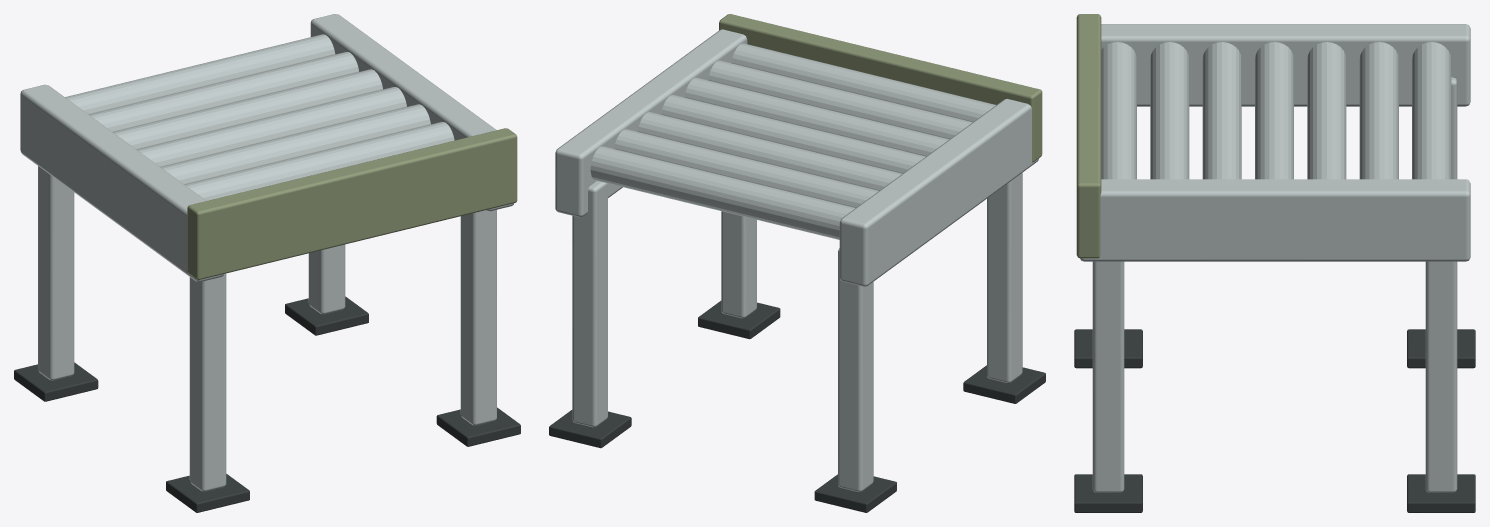
The model's file is mountain-border-checkpoint-mountain-border-checkpoint--37b02af6__30309.glb.
The picture shows the model from 3 angles, left to right: view 1: azimuth 30°, elevation 25°; view 2: azimuth 150°, elevation 25°; view 3: azimuth 270°, elevation 25°; orthographic projection. The views are drawn at different scales.
Parts seen in each view (by area): view 1: mountain-border-checkpoint-baggage-roller-end; view 2: mountain-border-checkpoint-baggage-roller-end; view 3: mountain-border-checkpoint-baggage-roller-end.
Boxes of the visible parts, <box> form: mountain-border-checkpoint-baggage-roller-end: <box>14,14,520,512</box>; mountain-border-checkpoint-baggage-roller-end: <box>549,14,1045,512</box>; mountain-border-checkpoint-baggage-roller-end: <box>1074,14,1475,512</box>.
Bounding box in the file's own units: 0.84 × 0.74 × 0.82.
